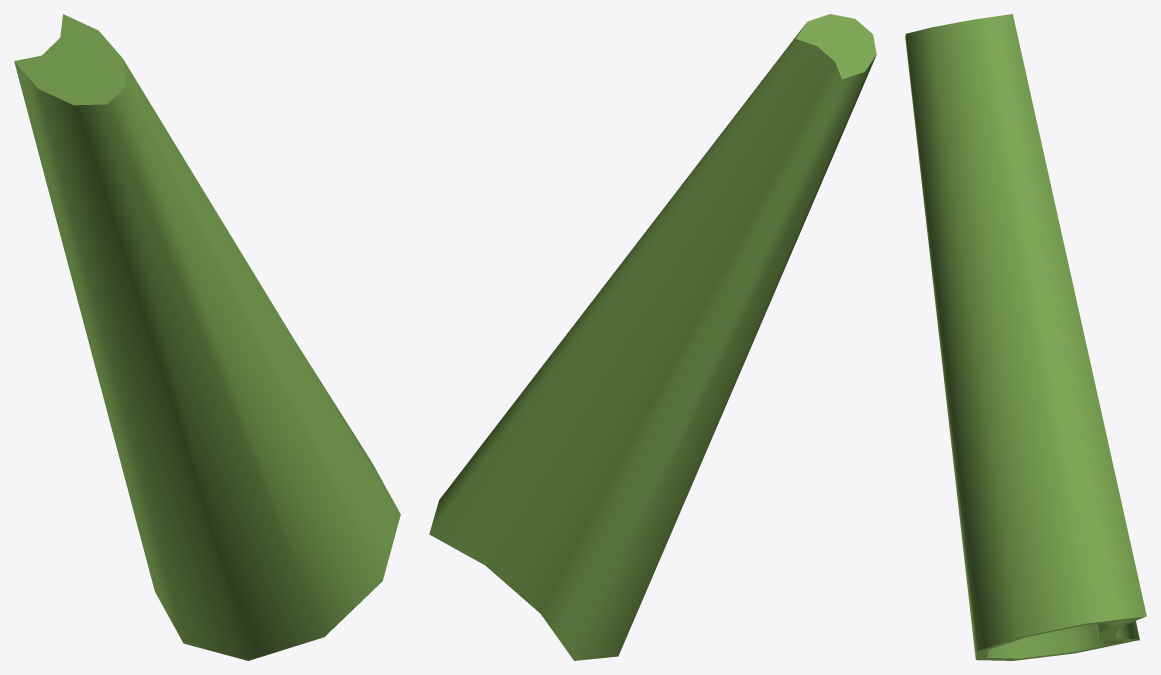
The model's file is Quiver.fbx.
The picture shows the model from 3 angles, left to right: view 1: azimuth 30°, elevation 25°; view 2: azimuth 150°, elevation 25°; view 3: azimuth 270°, elevation 25°; orthographic projection. The views are drawn at different scales.
Parts seen in each view (by area): view 1: Quiver; view 2: Quiver; view 3: Quiver.
Part boxes in pixels (x1,y1,x2,y2): Quiver: [14, 14, 400, 660]; Quiver: [429, 14, 876, 660]; Quiver: [905, 14, 1146, 660].
Bounding box in the file's own units: 48.61 × 80.2 × 30.54.
